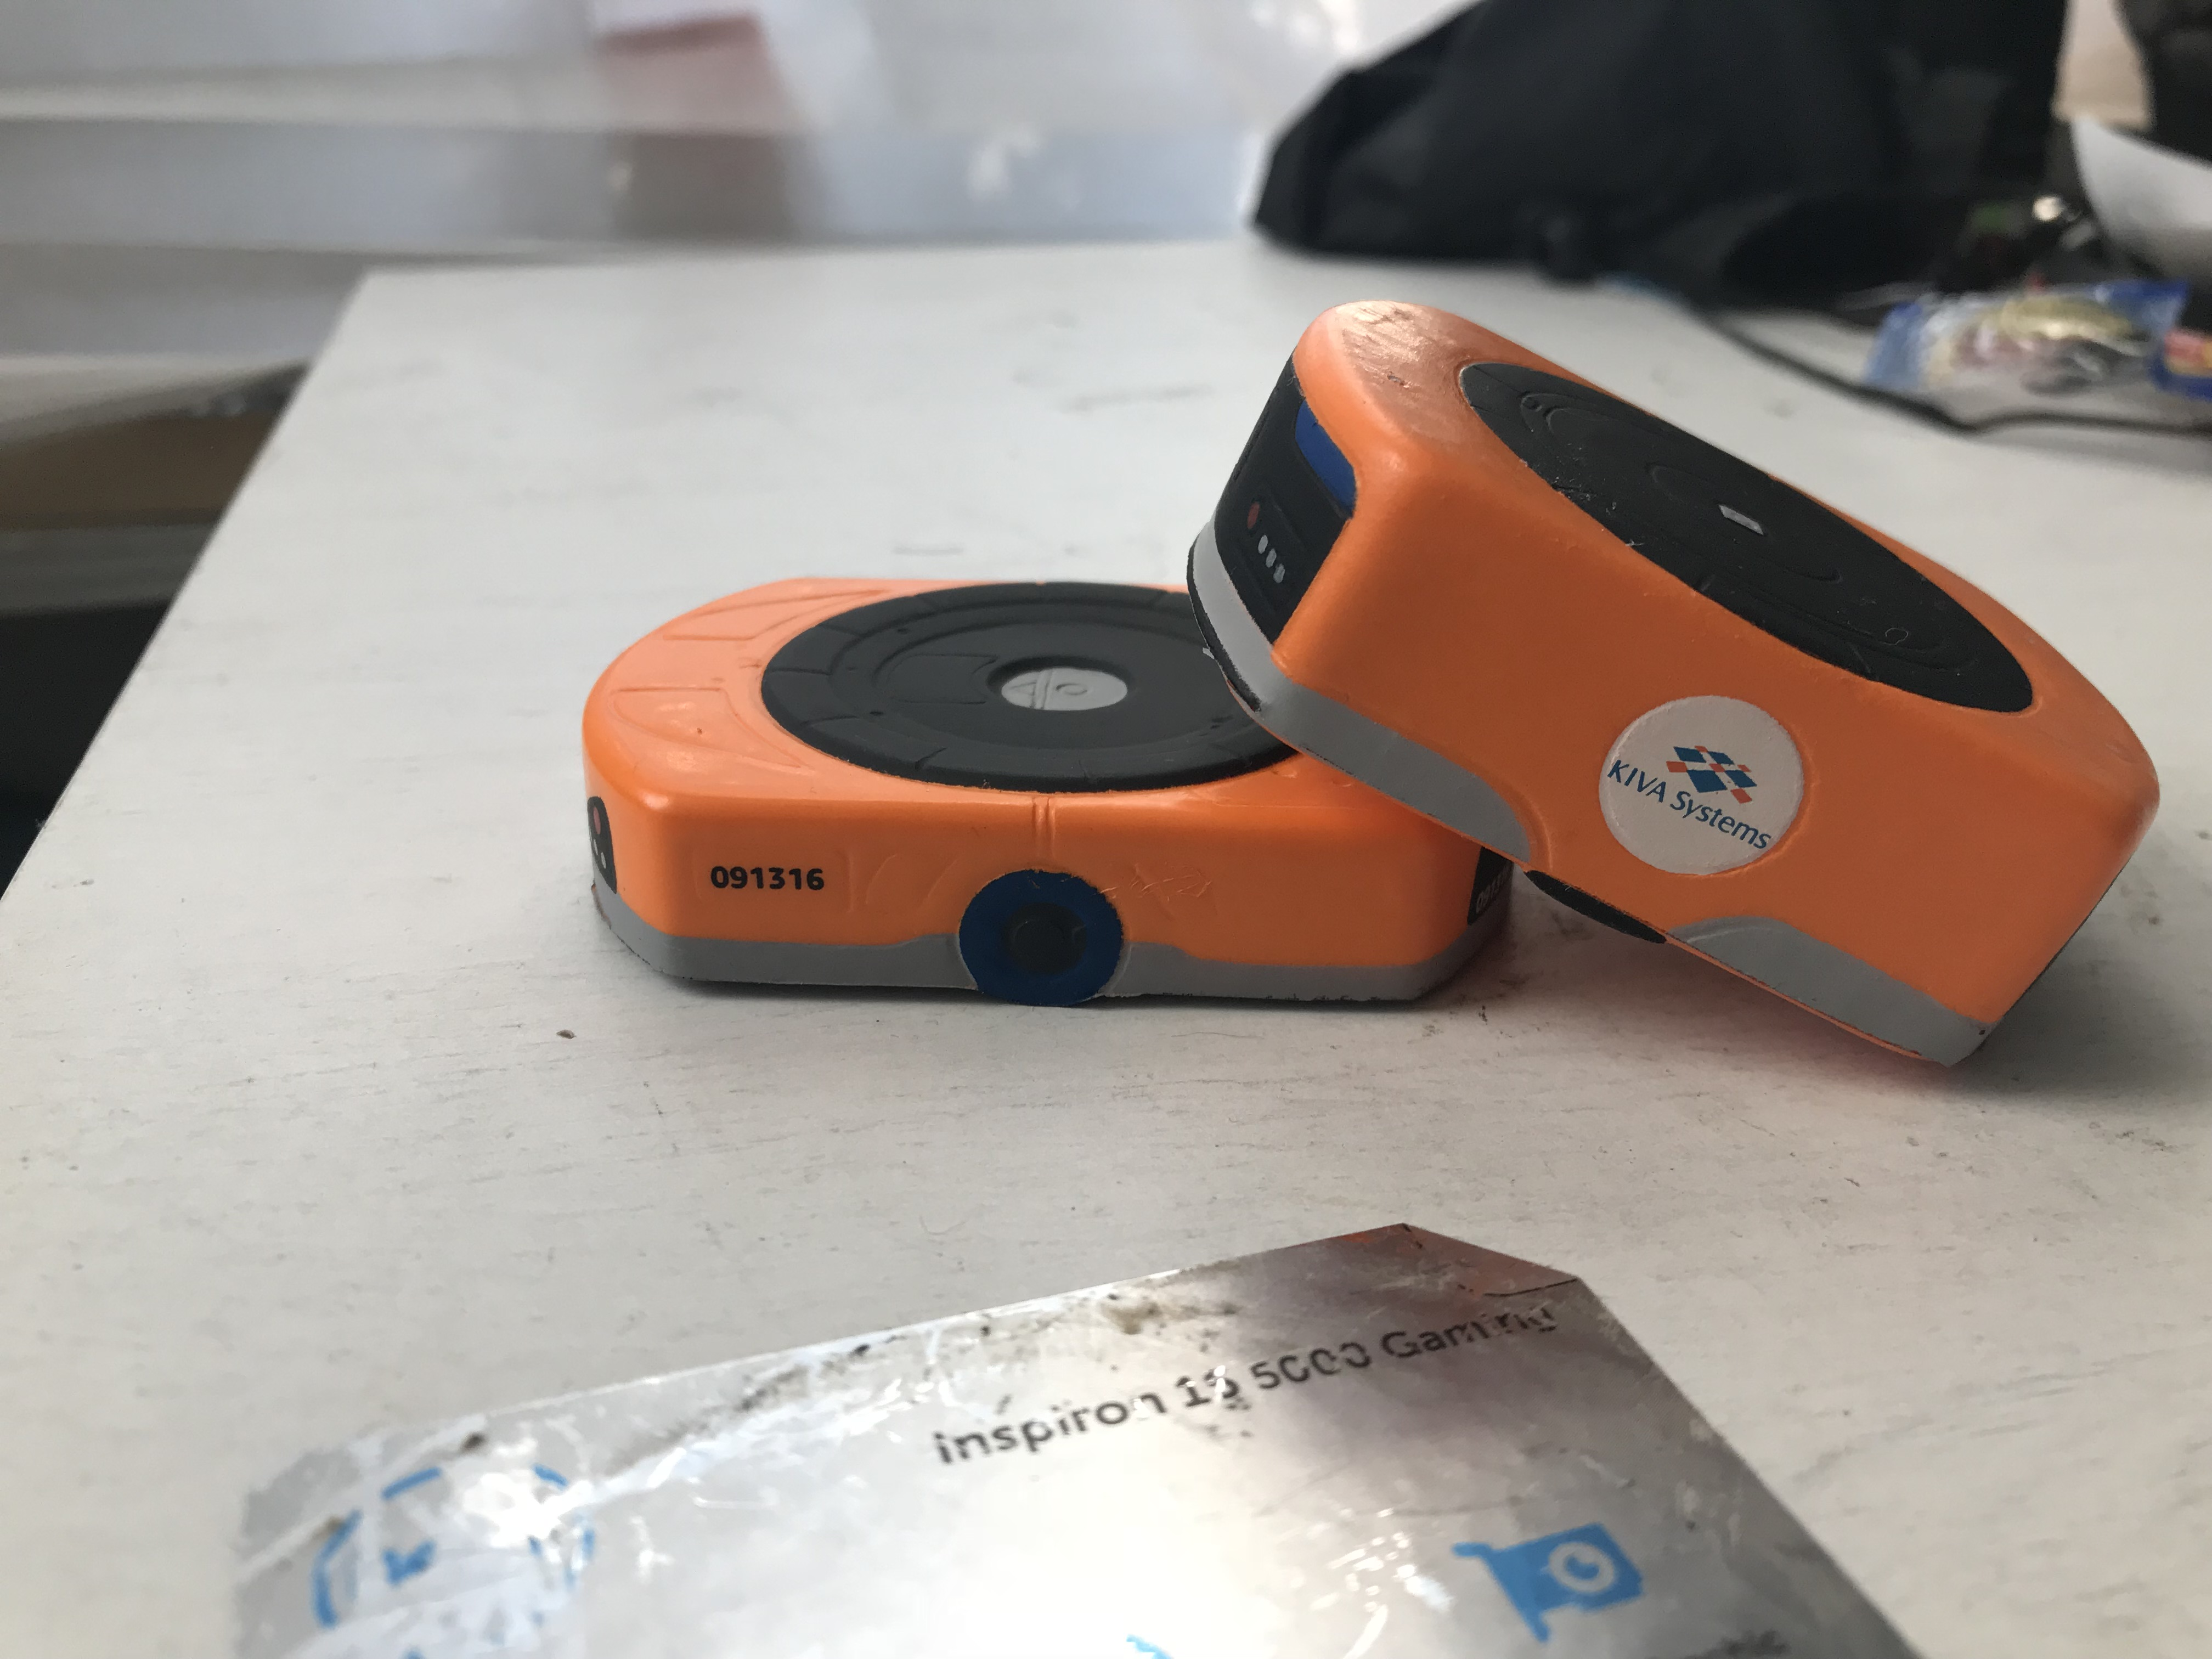amazon_bot: (1191, 300, 2168, 1084), (566, 572, 1524, 1032)
